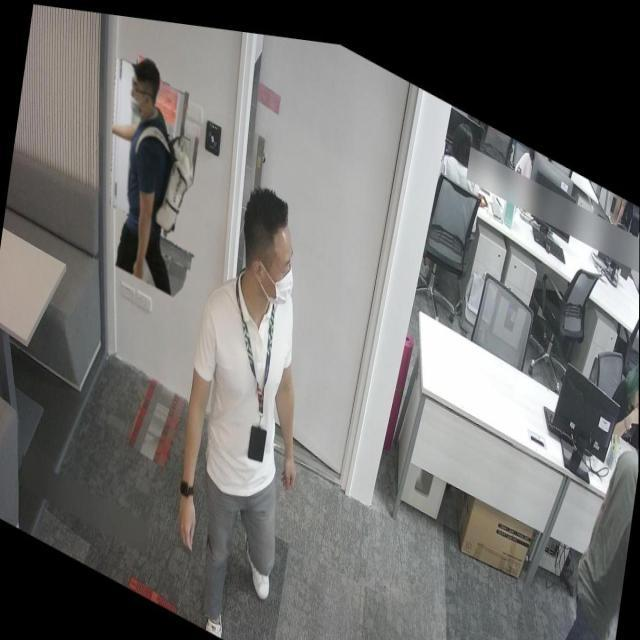hairnet: (128, 74, 150, 114)
